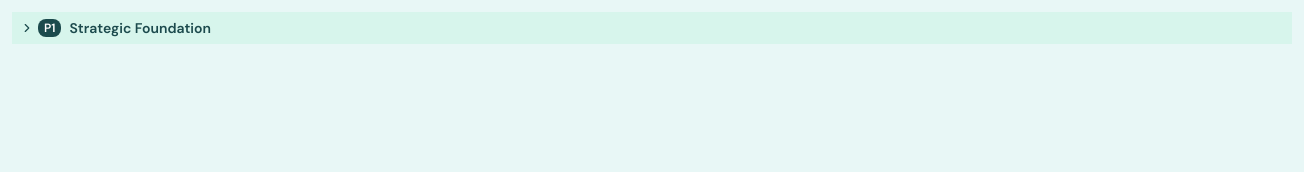
Test: CatalogueTree › filters by search across all subcaps
What coordinates should you click on to do the following:
click the text "Strategic Foundation"
I would click on:
 (140, 28)
Its box is top-left (69, 18), bottom-right (211, 38).
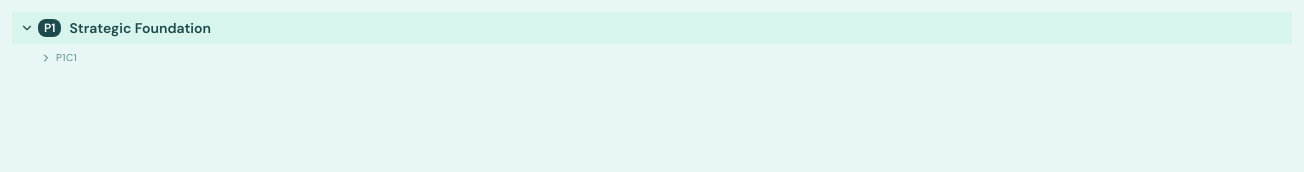
What coordinates should you click on to do the following:
click the button "P1C1"
I would click on:
 (46, 58)
Its box is top-left (32, 44), bottom-right (1292, 72).
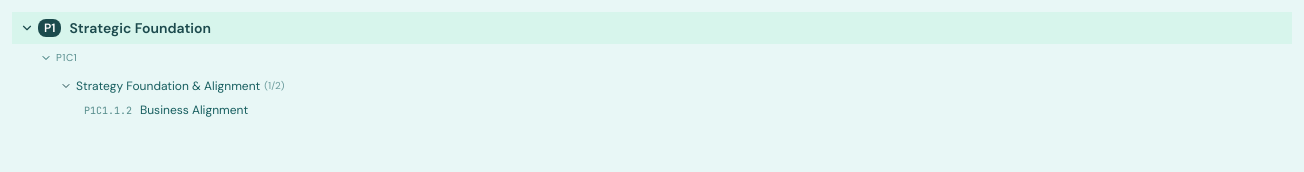
Expected: the link "P1C1.1.2Business Alignment" is shown, top-left (84, 102), bottom-right (248, 118)
